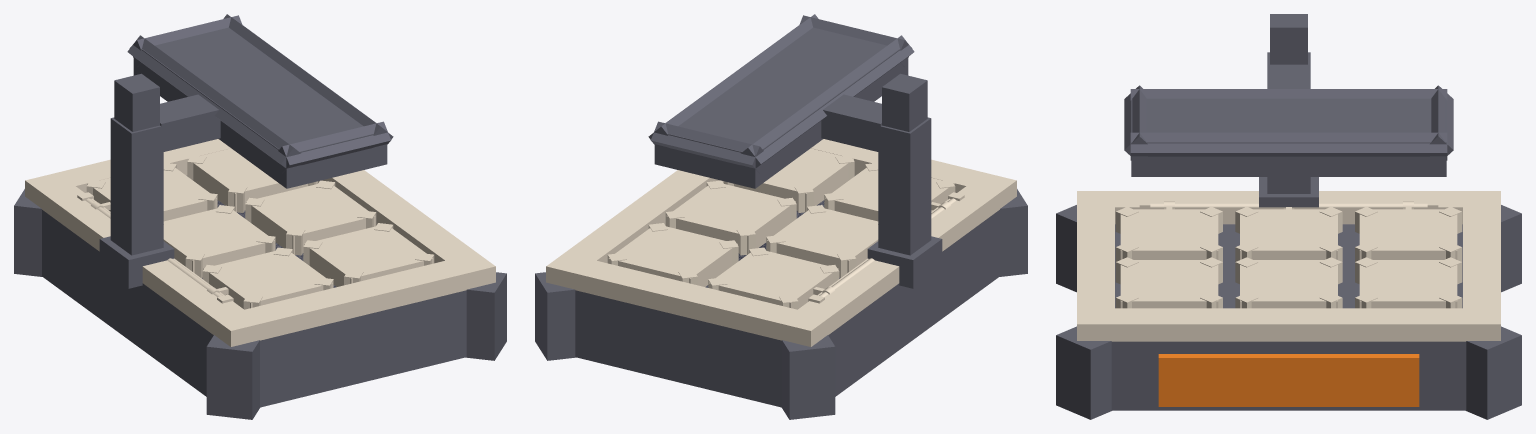
Rendered from asset.glb.
The picture shows the model from 3 angles, left to right: view 1: azimuth 30°, elevation 25°; view 2: azimuth 150°, elevation 25°; view 3: azimuth 270°, elevation 25°; orthographic projection. The views are drawn at different scales.
Visible parts, largest first — view 1: Mesh_TubBody, Mesh_HoodMain, Mesh_RimBar_Back, Mesh_RimBar_Left, Mesh_MastColumn, Mesh_RimBar_Front, Mesh_PillowCushion_5, Mesh_PillowCushion_6, Mesh_PillowCushion_2, Mesh_PillowCushion_3, Mesh_TubCorner_-1_1, Mesh_HoodChamferX_-1 (+14 smaller); view 2: Mesh_TubBody, Mesh_HoodMain, Mesh_RimBar_Right, Mesh_RimBar_Back, Mesh_MastColumn, Mesh_RimBar_Front, Mesh_PillowCushion_5, Mesh_PillowCushion_4, Mesh_PillowCushion_2, Mesh_PillowCushion_1, Mesh_TubCorner_-1_-1, Mesh_HoodChamferX_-1 (+14 smaller); view 3: Mesh_HoodMain, Mesh_RimBar_Front, Mesh_TubBody, Mesh_FrontAccentPlate, Mesh_HoodChamferX_1, Mesh_RimBar_Back, Mesh_PillowCushion_1, Mesh_PillowCushion_3, Mesh_PillowCushion_2, Mesh_PillowCushion_4, Mesh_PillowCushion_6, Mesh_TubCorner_1_1 (+16 smaller).
Part boxes in pixels (x1,y1,x2,y2): Mesh_TubBody: (42, 200, 466, 407); Mesh_HoodMain: (133, 24, 387, 188); Mesh_RimBar_Back: (25, 178, 262, 346); Mesh_RimBar_Left: (245, 260, 463, 339); Mesh_MastColumn: (110, 117, 163, 255); Mesh_RimBar_Front: (318, 170, 493, 290); Mesh_PillowCushion_5: (246, 184, 375, 254); Mesh_PillowCushion_6: (304, 226, 433, 286); Mesh_PillowCushion_2: (163, 208, 274, 272); Mesh_PillowCushion_3: (203, 251, 332, 308); Mesh_TubCorner_-1_1: (206, 335, 259, 419); Mesh_HoodChamferX_-1: (127, 35, 300, 174); Mesh_TubBody: (575, 200, 999, 407); Mesh_HoodMain: (654, 24, 908, 188); Mesh_RimBar_Right: (578, 260, 796, 339); Mesh_RimBar_Back: (779, 178, 1001, 346); Mesh_MastColumn: (878, 117, 931, 255); Mesh_RimBar_Front: (546, 170, 723, 290); Mesh_PillowCushion_5: (666, 184, 795, 254); Mesh_PillowCushion_4: (608, 226, 737, 286); Mesh_PillowCushion_2: (767, 208, 878, 272); Mesh_PillowCushion_1: (709, 251, 838, 308); Mesh_TubCorner_-1_-1: (782, 335, 835, 419); Mesh_HoodChamferX_-1: (741, 35, 914, 174); Mesh_HoodMain: (1131, 98, 1446, 176); Mesh_RimBar_Front: (1077, 308, 1500, 341); Mesh_TubBody: (1111, 224, 1466, 410); Mesh_FrontAccentPlate: (1158, 354, 1419, 406); Mesh_HoodChamferX_1: (1130, 132, 1447, 160); Mesh_RimBar_Back: (1077, 191, 1500, 224); Mesh_PillowCushion_1: (1359, 209, 1457, 259); Mesh_PillowCushion_3: (1120, 209, 1218, 259); Mesh_PillowCushion_2: (1240, 209, 1337, 259); Mesh_PillowCushion_4: (1359, 260, 1457, 308); Mesh_PillowCushion_6: (1120, 260, 1218, 308); Mesh_TubCorner_1_1: (1056, 326, 1111, 419).
Size of the model in its own units: 1.31 by 1.06 by 1.71.
